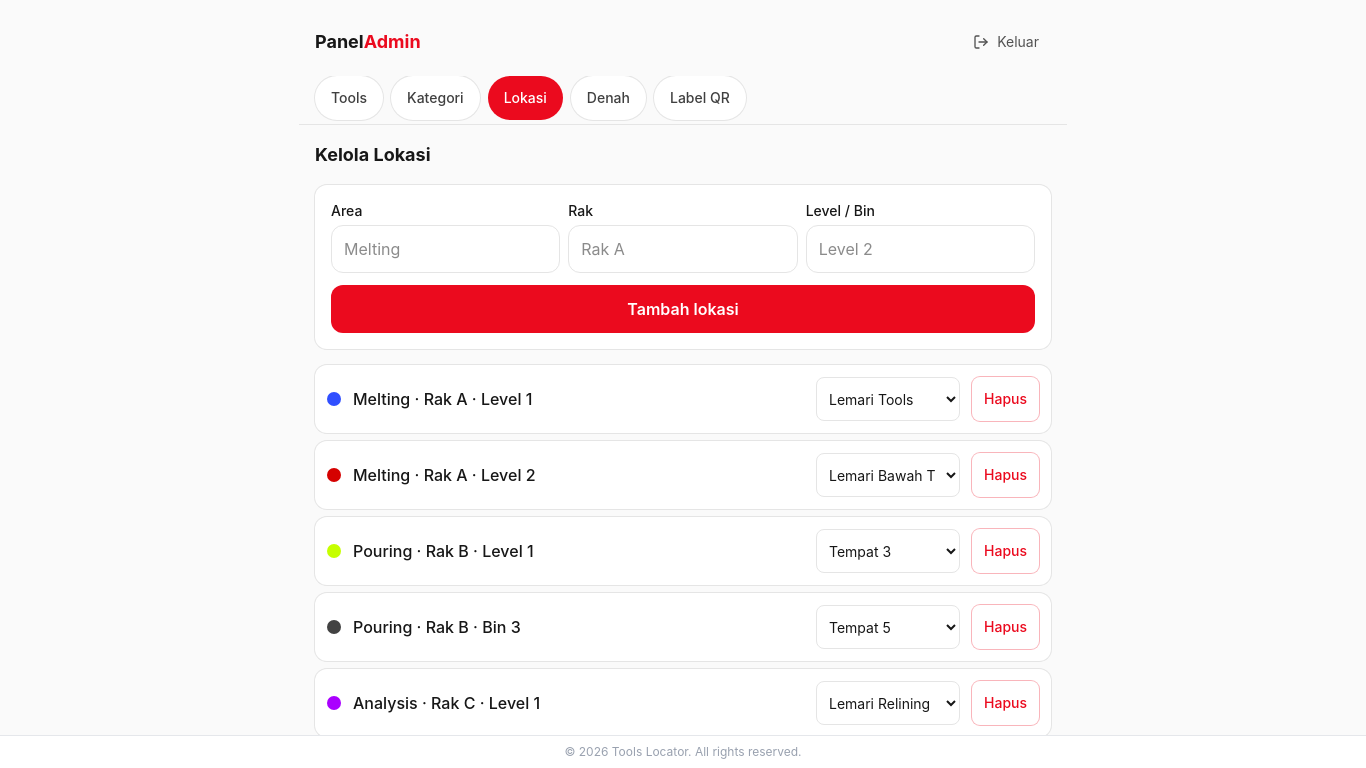
Test: menolak simpan saat area kosong meski rak dan level/bin terisi
Check: the text "Melting · Rak A · Level 1" is shown, box [353,389,532,409]
Type "Rak Z" into the field labelled "Rak" at (683, 249), box [568,225,798,273]
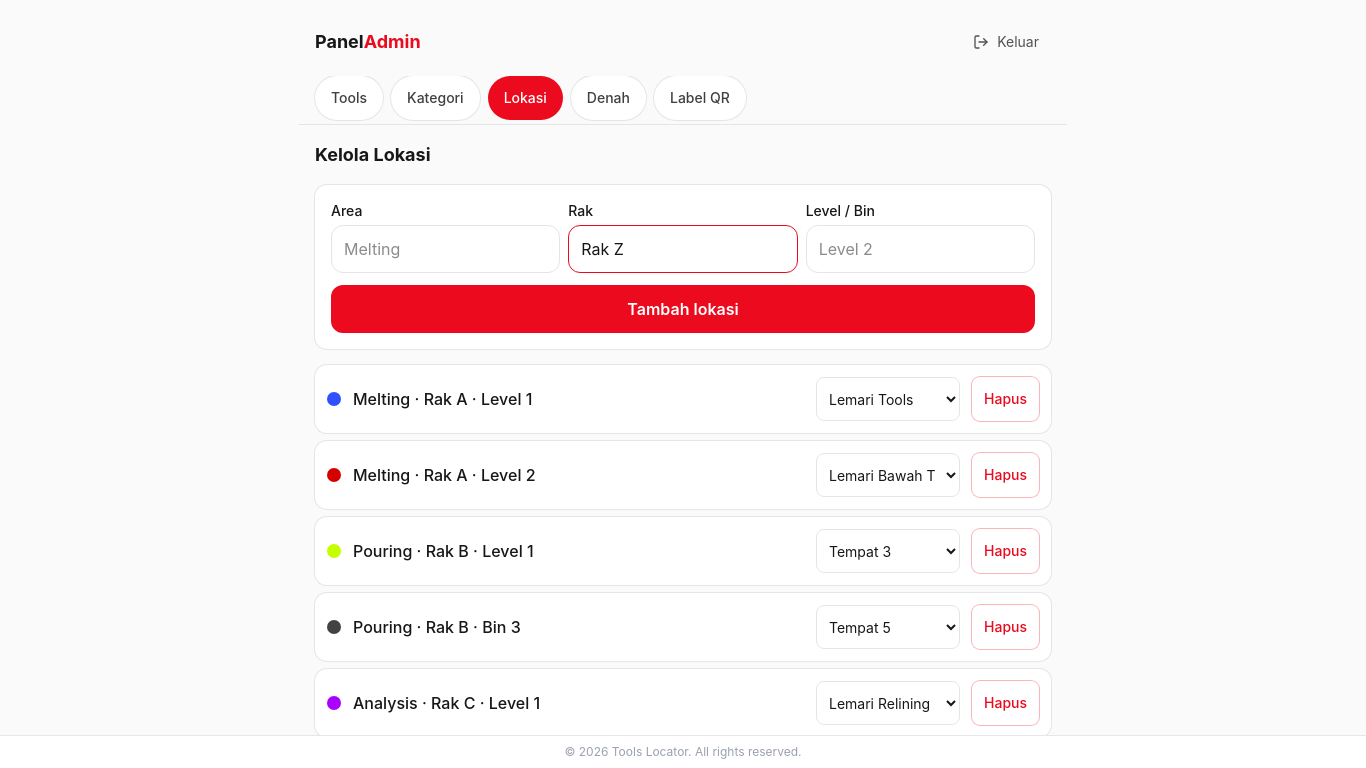
Type "Level Z" into the field labelled "Level / Bin" at (920, 249), box [806,225,1035,273]
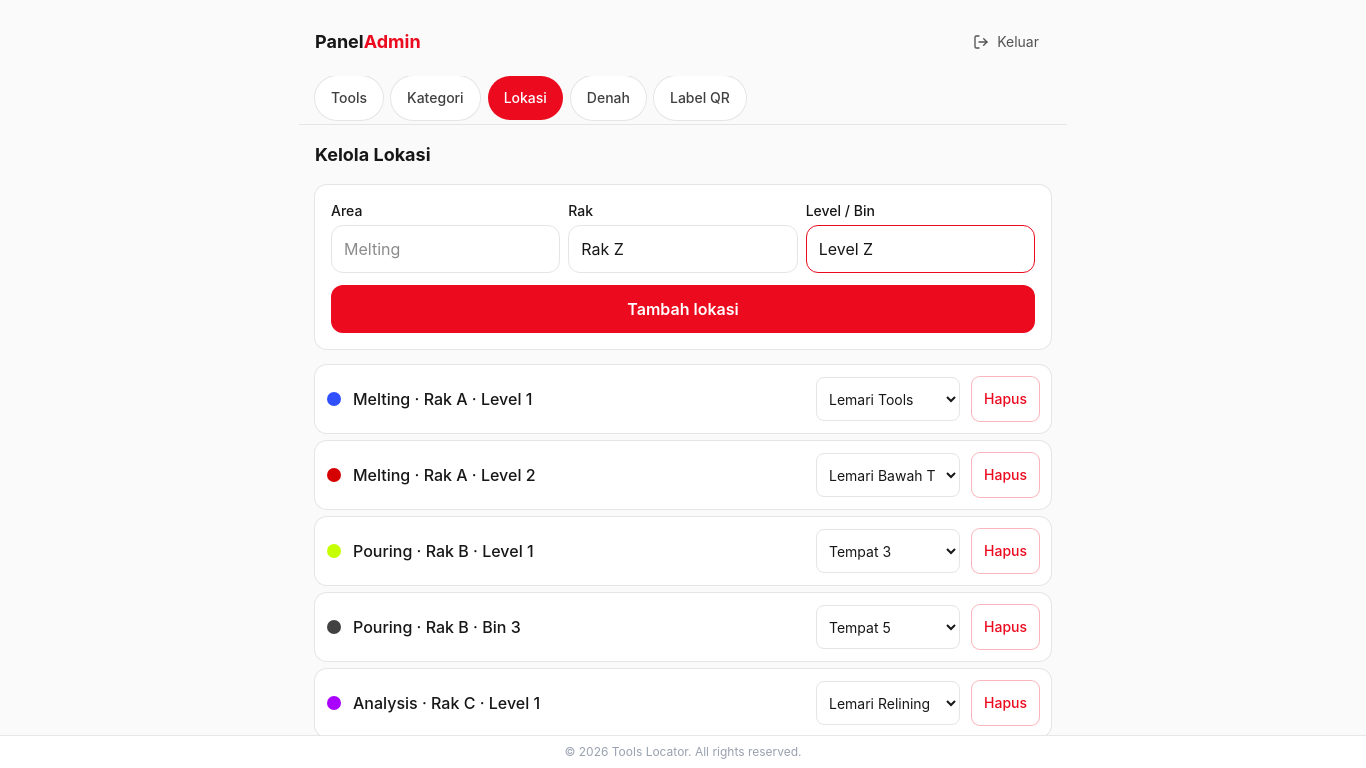
Click the button "Tambah lokasi" at (683, 309), box [331,285,1035,333]
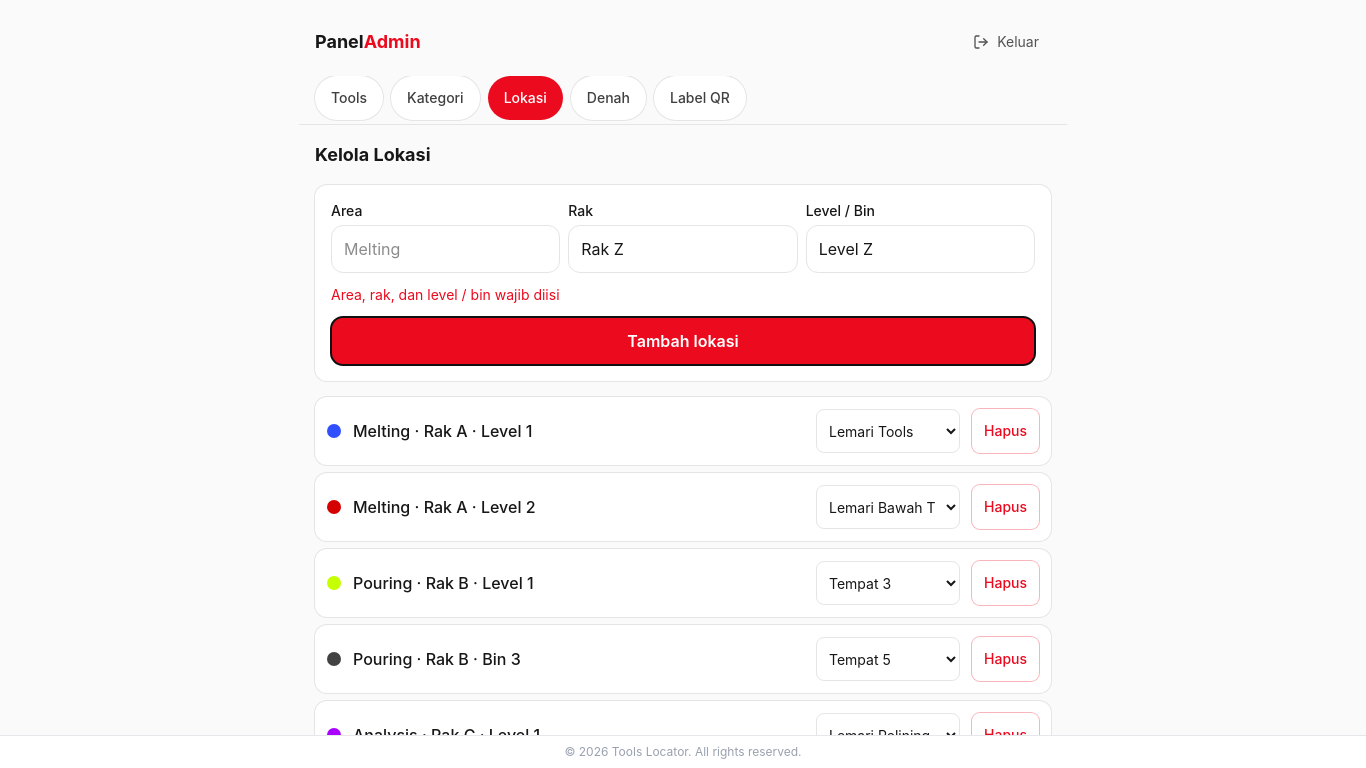
Check: the text "Area, rak, dan level / bin wajib diisi" is shown, box [331,286,560,303]
